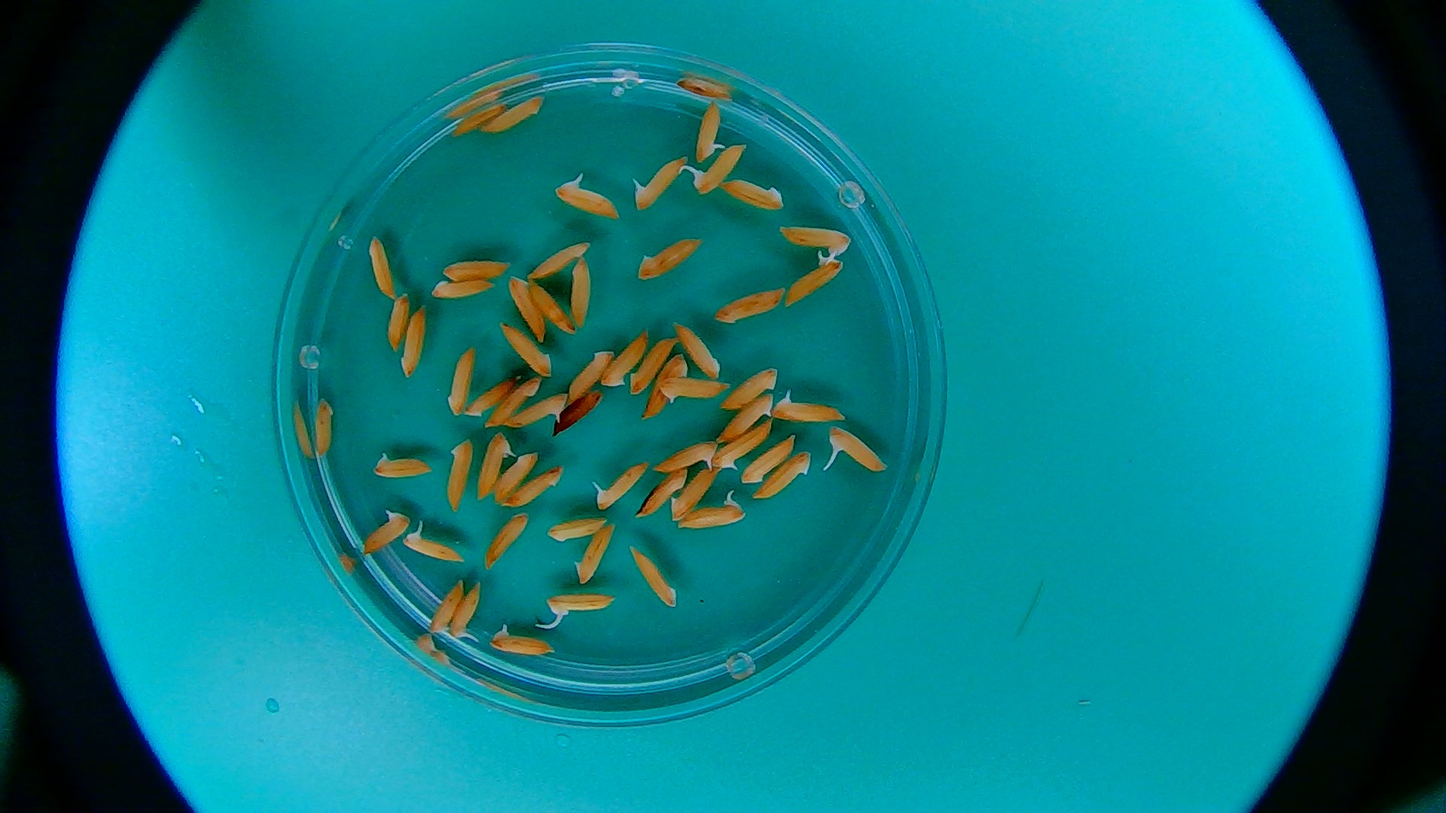no: (498, 320, 555, 378), (629, 543, 678, 610), (671, 321, 724, 382), (635, 236, 704, 282), (751, 450, 813, 501), (642, 352, 687, 422), (525, 278, 579, 336), (484, 376, 541, 429), (599, 327, 648, 388), (715, 392, 773, 443), (502, 464, 566, 510), (572, 522, 618, 586), (740, 432, 796, 484), (633, 468, 691, 518), (526, 240, 591, 284), (480, 92, 548, 134), (508, 273, 548, 344), (719, 176, 789, 216), (669, 464, 719, 520), (627, 337, 676, 394), (713, 287, 786, 324), (551, 391, 607, 439), (309, 391, 343, 470), (720, 367, 779, 410), (566, 349, 612, 403), (486, 513, 529, 570), (494, 452, 541, 504), (657, 374, 731, 406), (463, 376, 517, 418), (445, 438, 474, 516), (399, 303, 428, 379), (365, 232, 395, 302), (451, 103, 509, 139), (428, 579, 465, 635), (447, 347, 475, 416), (372, 449, 432, 480), (545, 515, 607, 545), (569, 257, 593, 332), (676, 73, 734, 104), (441, 259, 511, 282), (430, 276, 495, 300), (387, 293, 410, 353)
yes: (710, 418, 776, 473), (825, 425, 893, 476), (769, 385, 853, 426), (630, 155, 689, 212), (785, 251, 844, 306), (691, 140, 747, 196), (473, 429, 515, 503), (679, 492, 751, 534), (589, 461, 649, 510), (778, 221, 851, 258), (560, 179, 621, 223), (652, 437, 718, 477), (501, 392, 570, 429), (360, 507, 412, 556), (450, 583, 485, 644), (541, 593, 615, 621), (401, 529, 460, 564), (695, 101, 727, 165), (493, 629, 557, 659)
